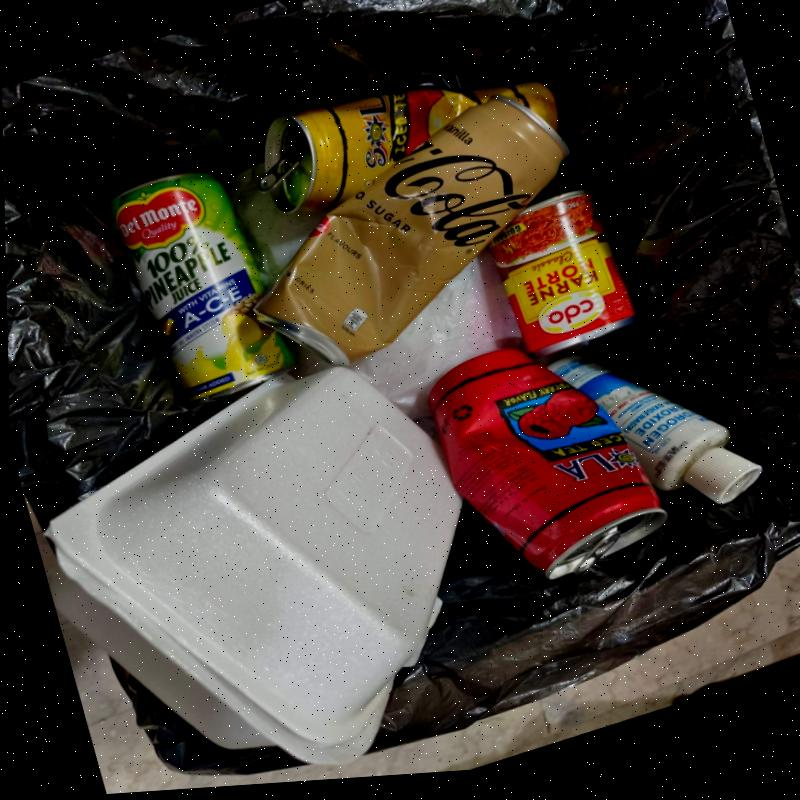aluminum: (247, 93, 567, 368), (426, 348, 666, 580), (102, 172, 296, 407), (256, 82, 556, 217), (485, 187, 635, 360)
plastic bottle: (545, 355, 760, 506)
styrofoam containers: (40, 365, 461, 766)
